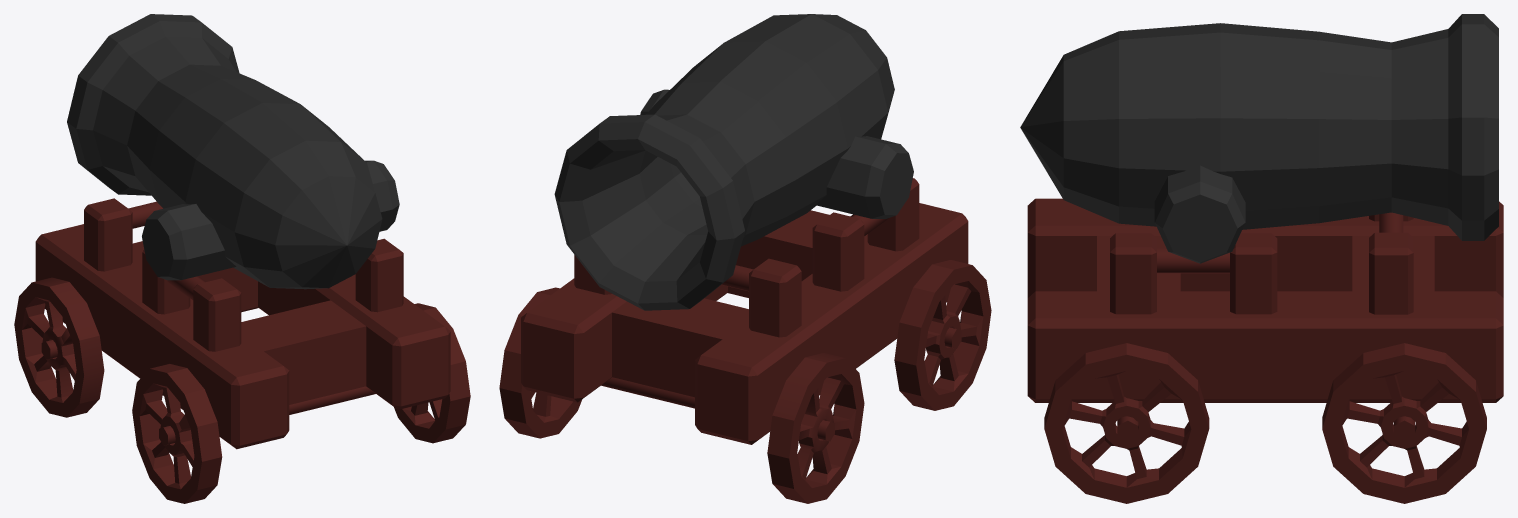
The model's file is canon.FBX.
3 renders of one model, left to right at view 1: azimuth 30°, elevation 25°; view 2: azimuth 150°, elevation 25°; view 3: azimuth 270°, elevation 25°, orthographic. The views are drawn at different scales.
Parts seen in each view (by area): view 1: Tube001, Box001, Torus003, Torus002, Box004, Cylinder001, Torus005, Box002, Box005, Cylinder003, Cylinder005; view 2: Tube001, Box001, Torus002, Torus003, Box004, Cylinder001, Torus004, Box002, Cylinder004, Box003; view 3: Tube001, Box001, Torus004, Torus005, Box005, Cylinder003, Box003.
Part boxes in pixels (x1=…): Tube001: x1=67, y1=14, x2=382, y2=289; Box001: x1=35, y1=224, x2=450, y2=449; Torus003: x1=14, y1=277, x2=104, y2=417; Torus002: x1=132, y1=364, x2=222, y2=503; Box004: x1=142, y1=250, x2=241, y2=351; Cylinder001: x1=142, y1=204, x2=236, y2=280; Torus005: x1=394, y1=303, x2=470, y2=443; Box002: x1=84, y1=198, x2=132, y2=271; Box005: x1=355, y1=238, x2=403, y2=312; Cylinder003: x1=365, y1=160, x2=399, y2=231; Cylinder005: x1=159, y1=386, x2=375, y2=445; Tube001: x1=554, y1=14, x2=894, y2=310; Box001: x1=521, y1=203, x2=968, y2=444; Torus002: x1=894, y1=260, x2=991, y2=410; Torus003: x1=767, y1=353, x2=864, y2=503; Box004: x1=812, y1=178, x2=919, y2=291; Cylinder001: x1=815, y1=136, x2=913, y2=218; Torus004: x1=499, y1=287, x2=582, y2=438; Box002: x1=749, y1=258, x2=801, y2=337; Cylinder004: x1=601, y1=377, x2=834, y2=441; Box003: x1=574, y1=255, x2=611, y2=294; Tube001: x1=1020, y1=14, x2=1498, y2=240; Box001: x1=1027, y1=198, x2=1503, y2=402; Torus004: x1=1322, y1=343, x2=1486, y2=503; Torus005: x1=1044, y1=343, x2=1209, y2=503; Box005: x1=1110, y1=233, x2=1277, y2=314; Cylinder003: x1=1154, y1=165, x2=1245, y2=263; Box003: x1=1369, y1=232, x2=1413, y2=314.
Size of the model in its own units: 103 by 122 by 133.
